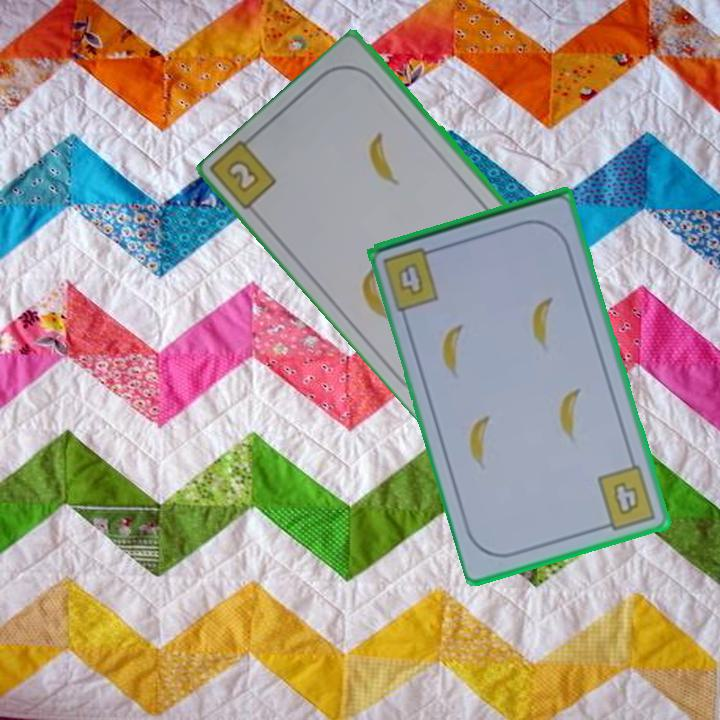2b: (223, 156, 263, 196)
4b: (594, 461, 659, 533), (379, 243, 443, 314)
